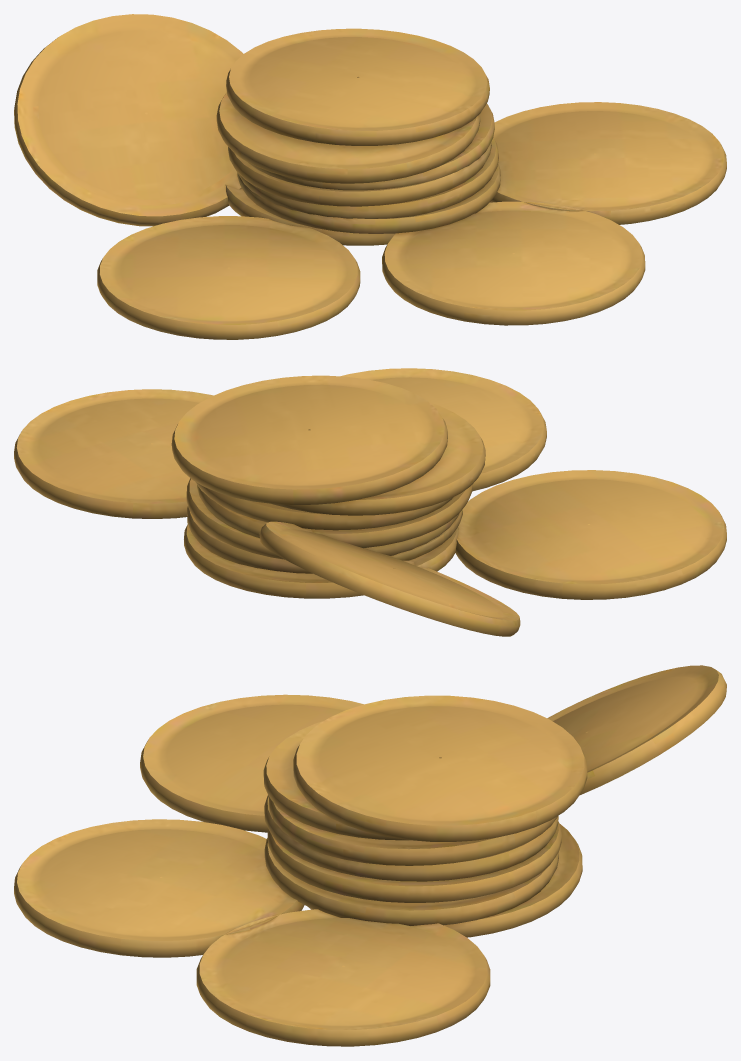
File: coins.glb
3 renders of one model, top to bottom at view 1: azimuth 30°, elevation 25°; view 2: azimuth 150°, elevation 25°; view 3: azimuth 270°, elevation 25°, orthographic. The views are drawn at different scales.
Visible parts, largest first — view 1: coins; view 2: coins; view 3: coins.
Part boxes in pixels (bbox=[...]): coins: bbox=[14, 14, 726, 339]; coins: bbox=[14, 368, 726, 636]; coins: bbox=[14, 665, 726, 1046].
Bounding box in the file's own units: 0.057 × 0.0104 × 0.0508.
Materials: 1 (1 with a texture image).
